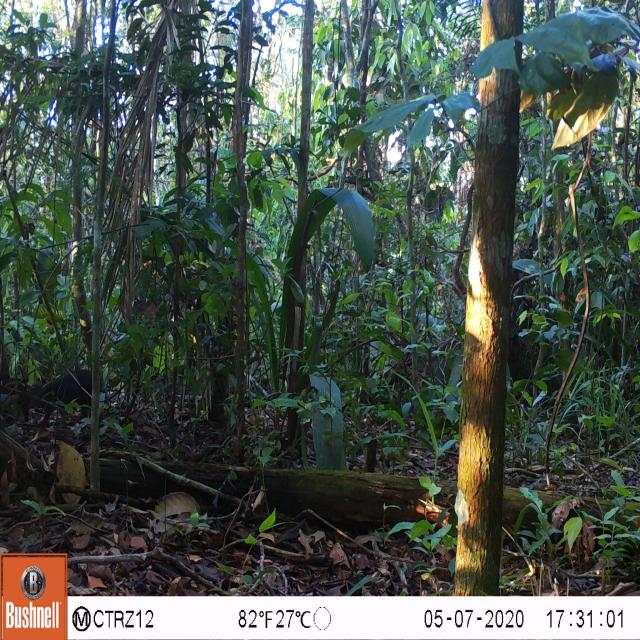Black Agouti: (20, 356, 127, 430)
